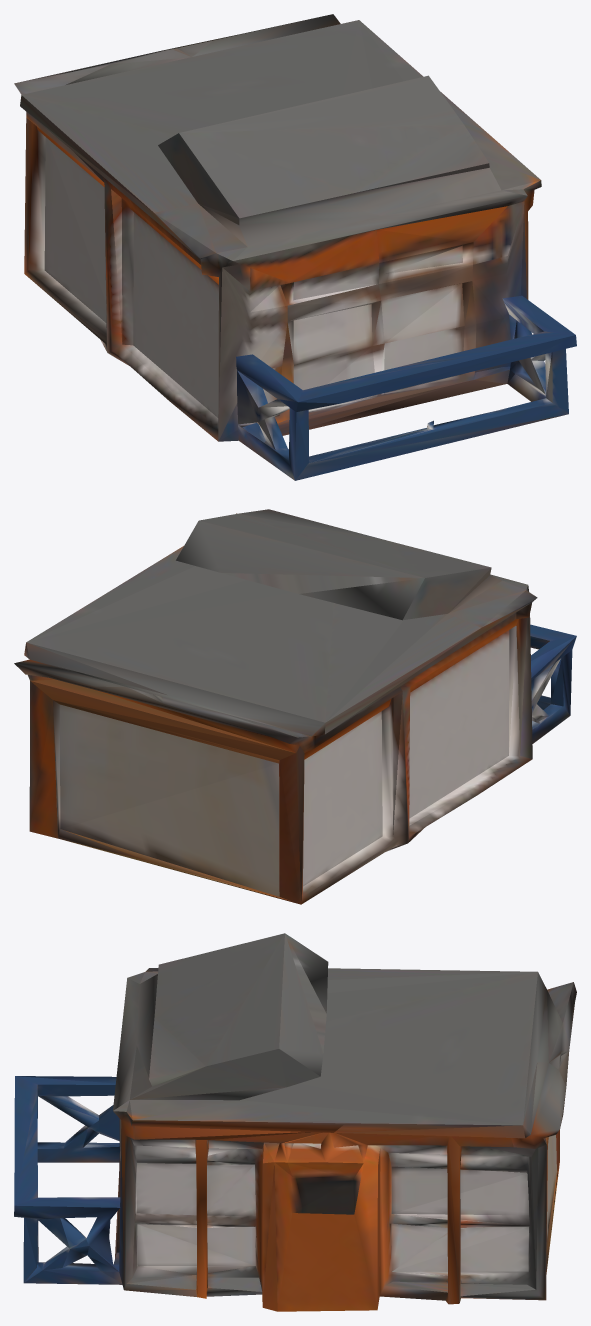
3 views of the same model, one above another, from view 1: azimuth 30°, elevation 25°; view 2: azimuth 150°, elevation 25°; view 3: azimuth 270°, elevation 25° (orthographic). The views are drawn at different scales.
Visible parts, largest first — view 1: tripo_node_fb7e8506.006; view 2: tripo_node_fb7e8506.006; view 3: tripo_node_fb7e8506.006.
Part boxes in pixels (x1=…): tripo_node_fb7e8506.006: x1=14, y1=14, x2=576, y2=480; tripo_node_fb7e8506.006: x1=14, y1=509, x2=576, y2=904; tripo_node_fb7e8506.006: x1=14, y1=933, x2=576, y2=1311.
Size of the model in its own units: 16.81 by 10.89 by 23.47.
1 material, 1 textured.
